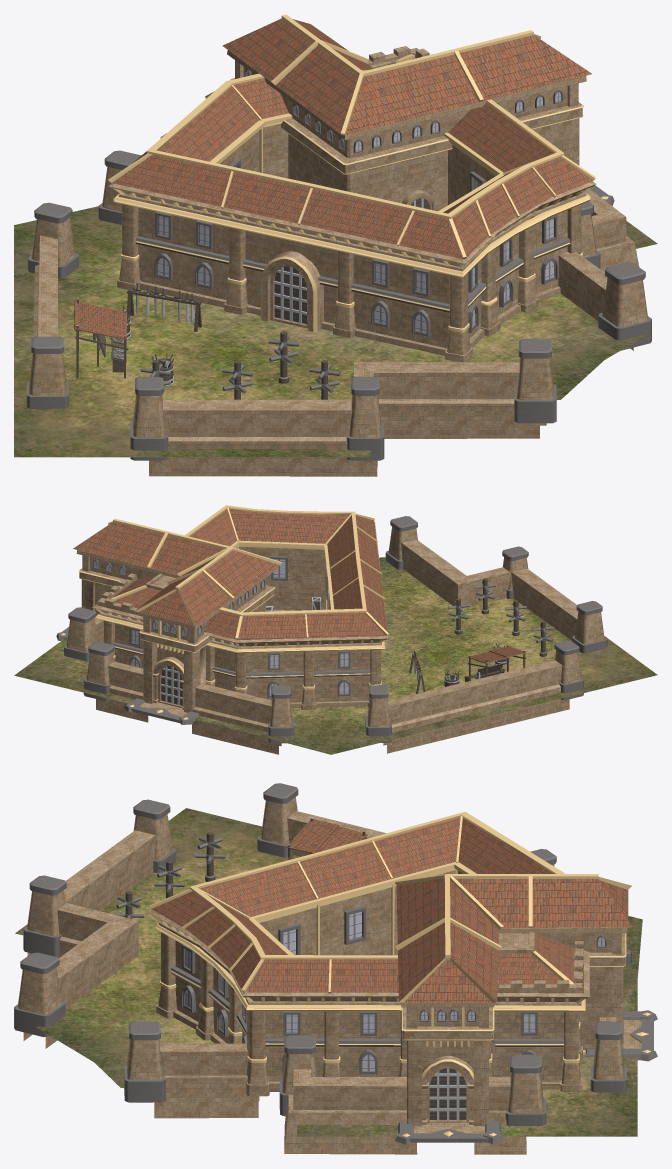
Rendered from barrack.glb.
3 views of the same model, one above another, from view 1: azimuth 30°, elevation 25°; view 2: azimuth 150°, elevation 25°; view 3: azimuth 270°, elevation 25° (orthographic). The views are drawn at different scales.
Parts seen in each view (by area): view 1: Barrack_Level_3.001; view 2: Barrack_Level_3.001; view 3: Barrack_Level_3.001.
Part boxes in pixels (<box>): Barrack_Level_3.001: <box>14,14,657,476</box>; Barrack_Level_3.001: <box>14,505,657,754</box>; Barrack_Level_3.001: <box>14,783,657,1154</box>.
Size of the model in its own units: 66.86 by 17.46 by 54.3.
2 materials, 2 textured.
